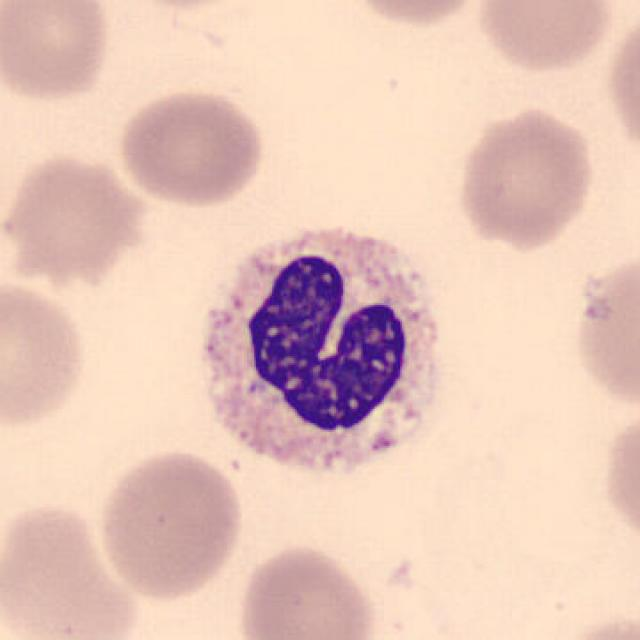Neutrophil: (181, 215, 457, 496)
RBC: (93, 444, 247, 605), (453, 102, 598, 252), (0, 497, 144, 640), (2, 150, 148, 287), (114, 84, 268, 210), (0, 271, 92, 435), (232, 539, 380, 640), (0, 0, 116, 106), (567, 247, 640, 414), (471, 0, 619, 76), (597, 402, 640, 555), (602, 7, 640, 164), (341, 0, 489, 30), (542, 606, 640, 640), (110, 0, 259, 12)
